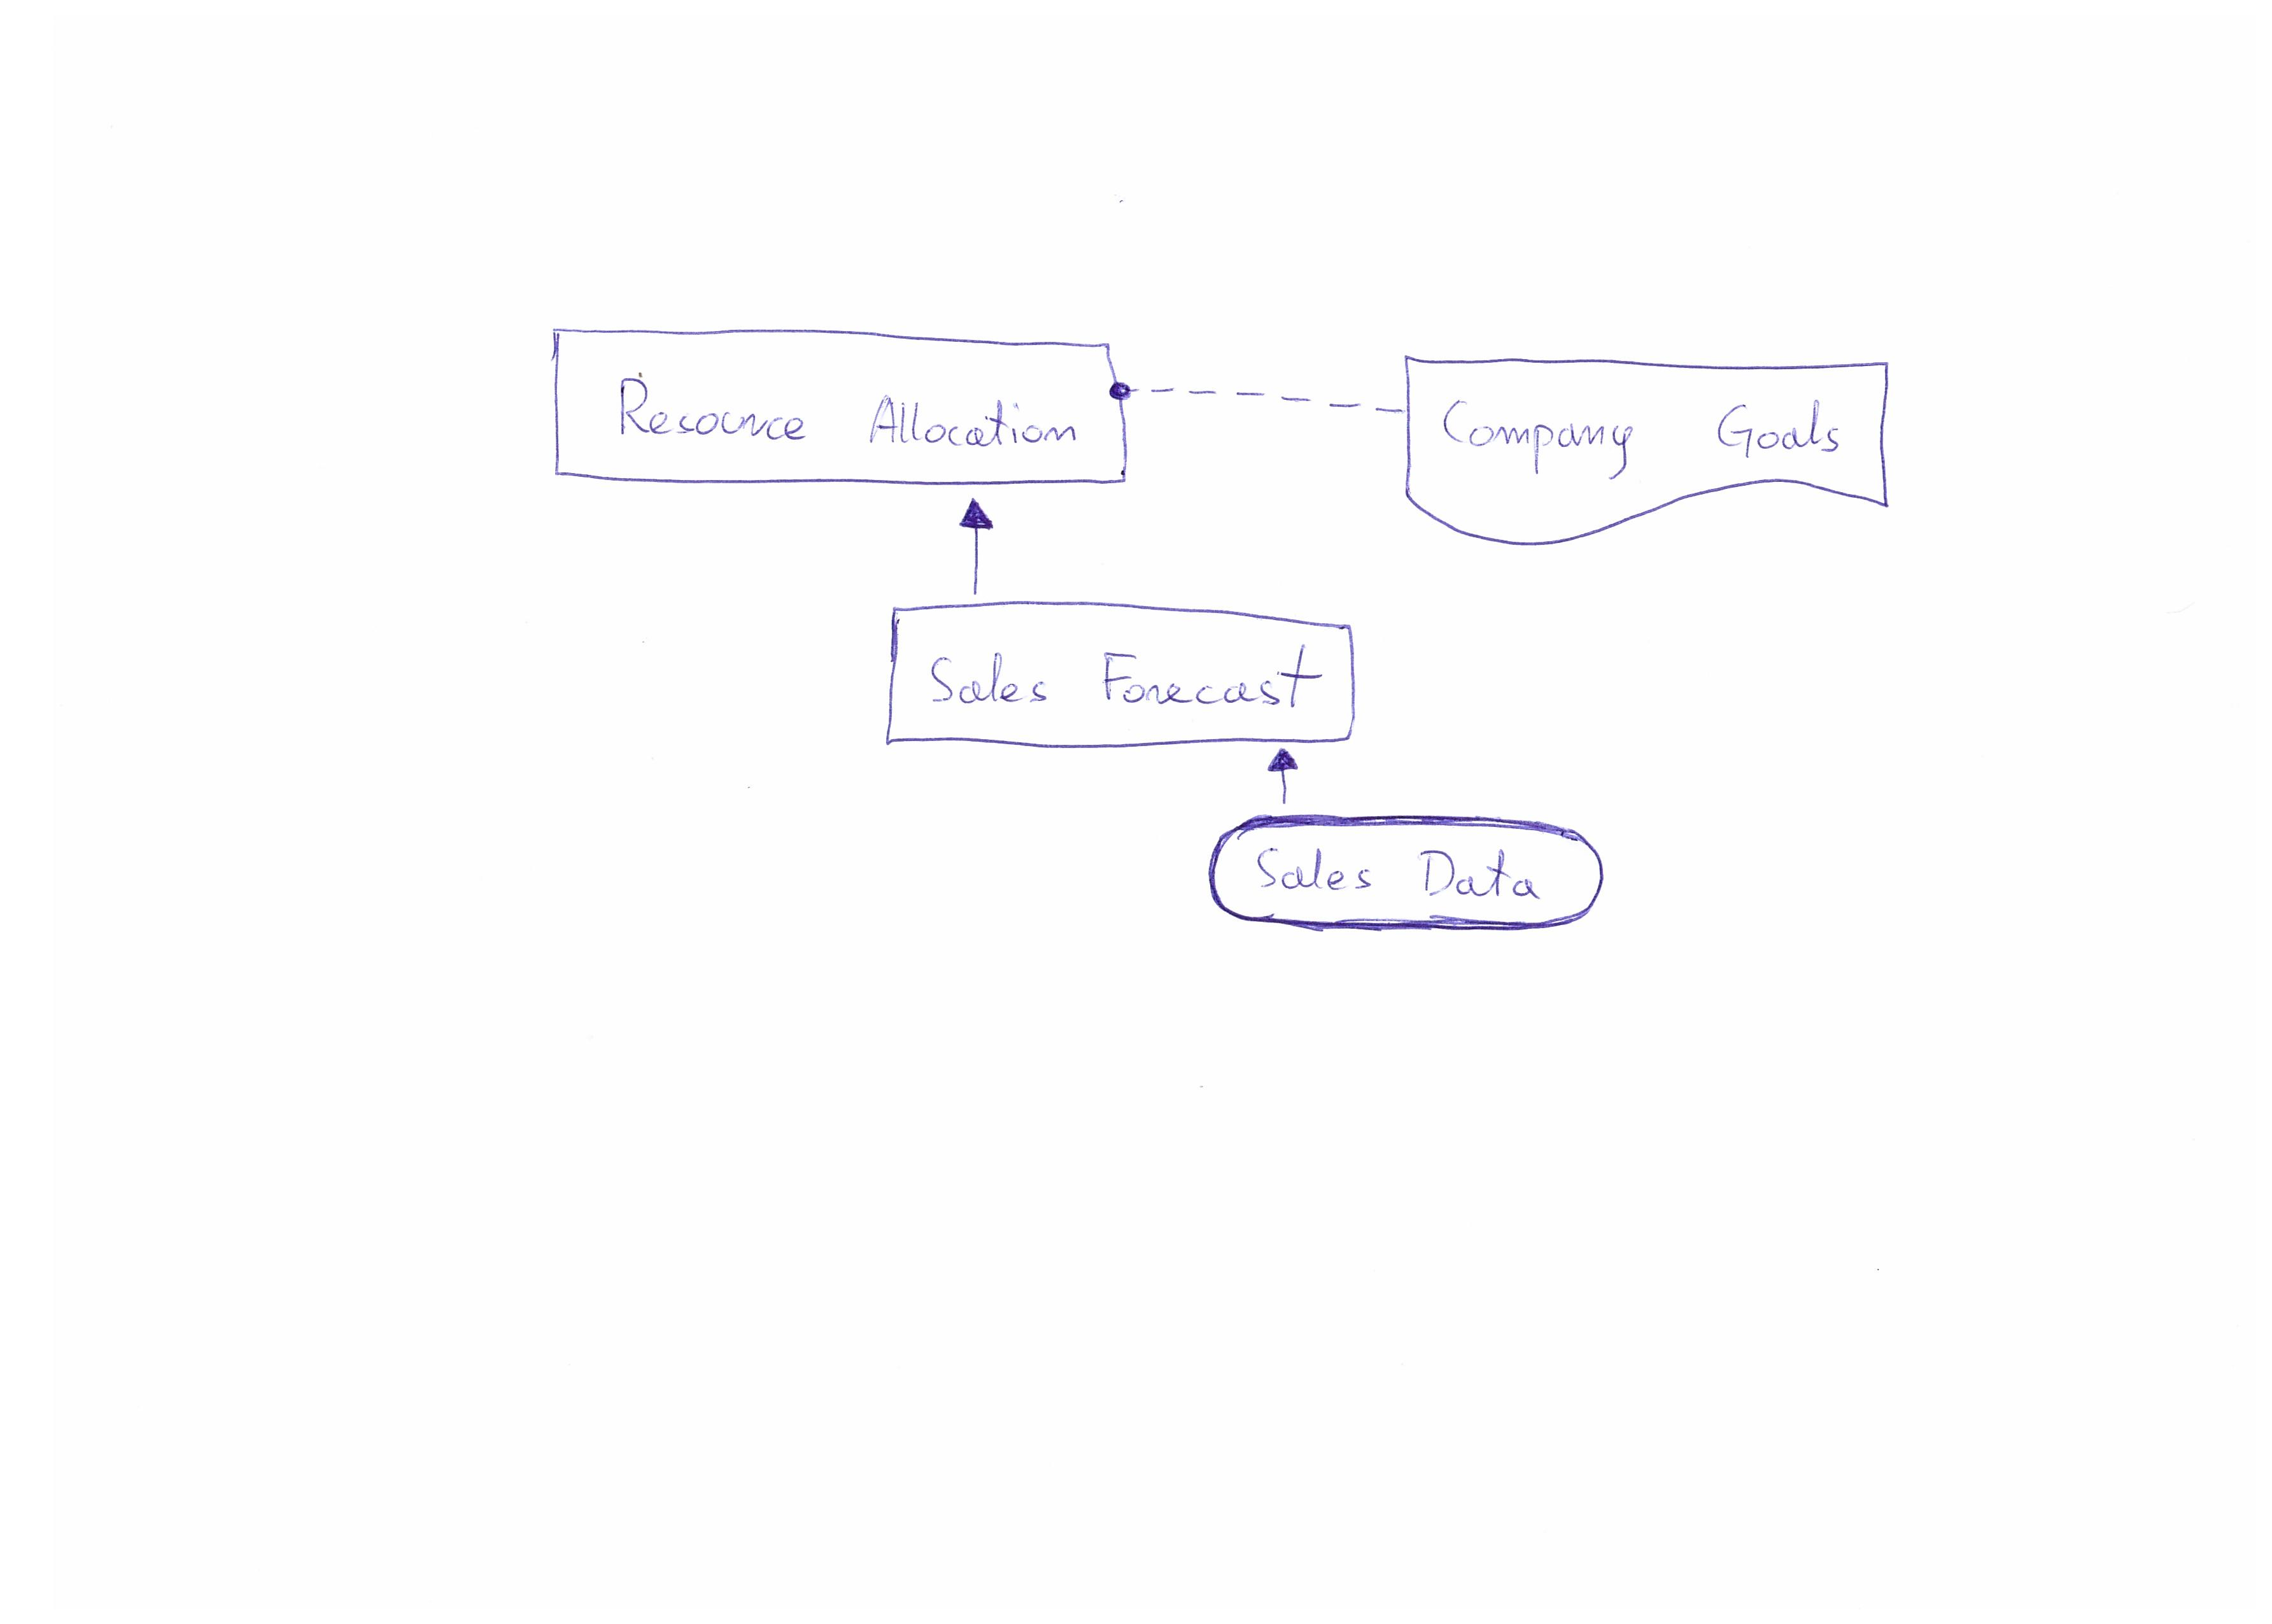arrow_authority_requirement: (1103, 366, 1406, 434)
arrow_information_requirement: (942, 489, 1005, 603), (1265, 743, 1309, 810)
node_decision: (543, 322, 1135, 494), (875, 596, 1364, 749)
node_input_data: (1207, 810, 1618, 954)
node_knowledge_source: (1400, 339, 1912, 561)
text: (608, 367, 1093, 462), (1429, 381, 1859, 478), (917, 640, 1327, 722), (1248, 837, 1552, 909)
